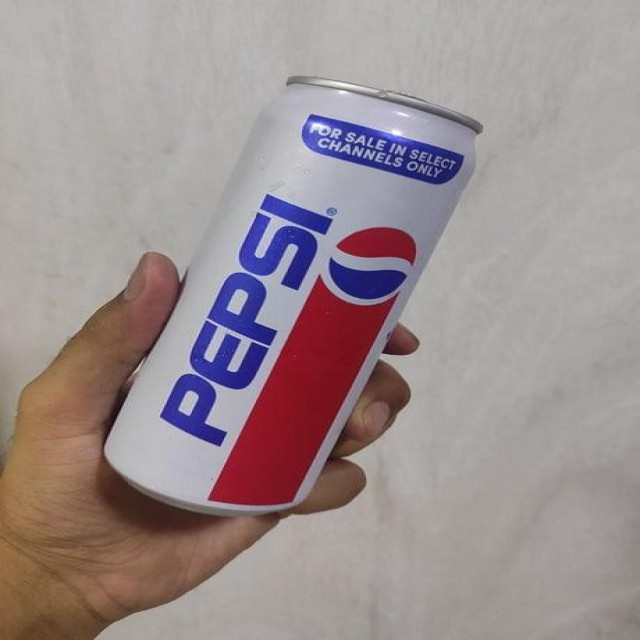pepsi: (320, 224, 425, 300)
